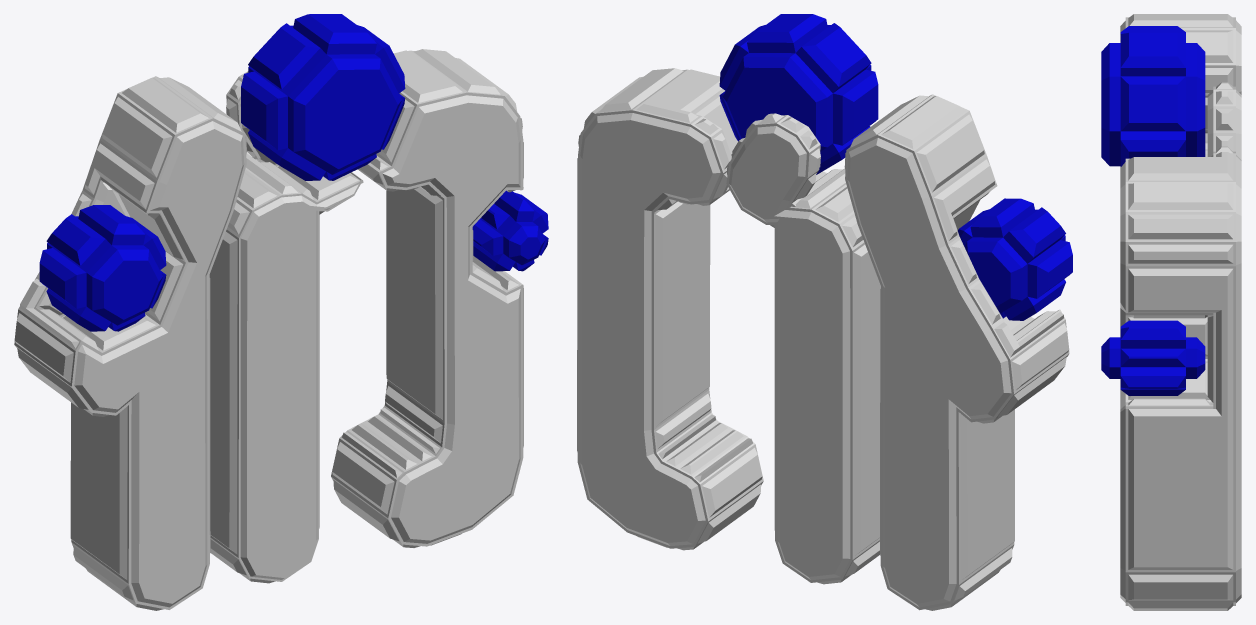
The model's file is Ch_China_们_01.fbx.
3 views of the same model, side by side, from view 1: azimuth 30°, elevation 25°; view 2: azimuth 150°, elevation 25°; view 3: azimuth 270°, elevation 25° (orthographic). The views are drawn at different scales.
Visible parts, largest first — view 1: sphere1; view 2: sphere1; view 3: sphere1.
Part boxes in pixels (x1,y1,x2,y2): sphere1: [14, 14, 548, 610]; sphere1: [577, 14, 1072, 610]; sphere1: [1101, 14, 1241, 610].
Size of the model in its own units: 0.9716 by 1.04 by 0.2541.
